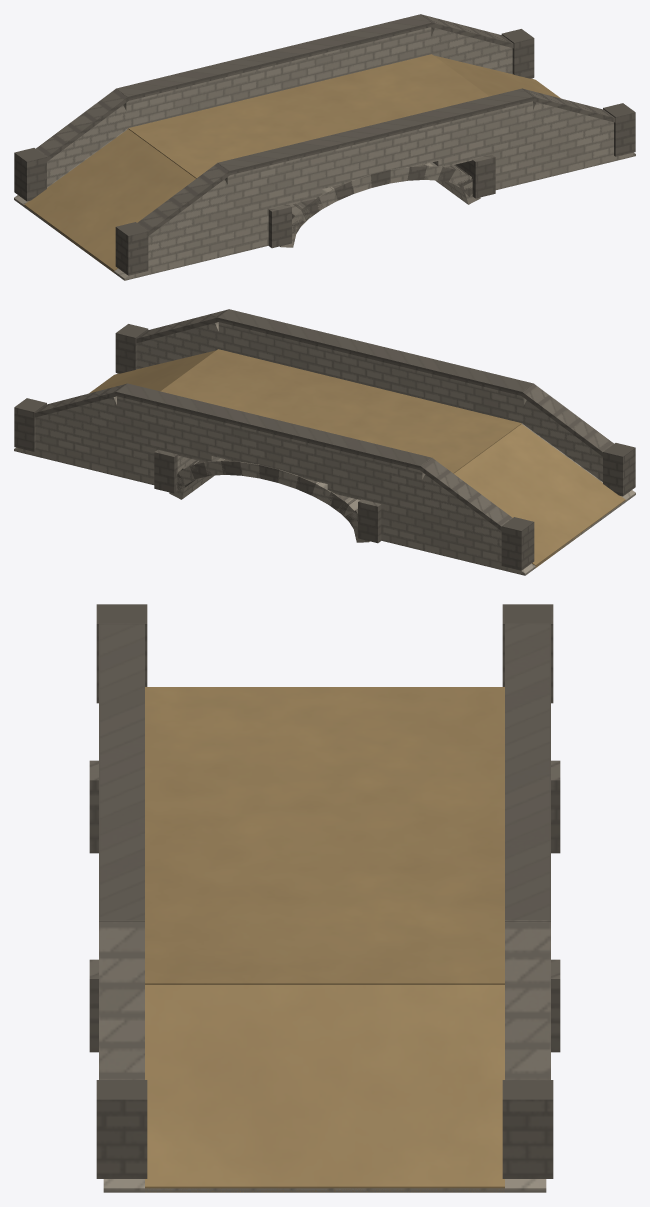
The model's file is bridge_stone.glb.
3 renders of one model, top to bottom at view 1: azimuth 30°, elevation 25°; view 2: azimuth 150°, elevation 25°; view 3: azimuth 270°, elevation 25°, orthographic. The views are drawn at different scales.
Visible parts, largest first — view 1: bridge_stone; view 2: bridge_stone; view 3: bridge_stone.
Boxes of the visible parts, x1,y1,x2,y2 form: bridge_stone: (14, 14, 635, 280); bridge_stone: (14, 309, 635, 575); bridge_stone: (89, 604, 560, 1192).
Bounding box in the file's own units: 12.8 × 2.22 × 5.1.
Materials: 1 (1 with a texture image).
